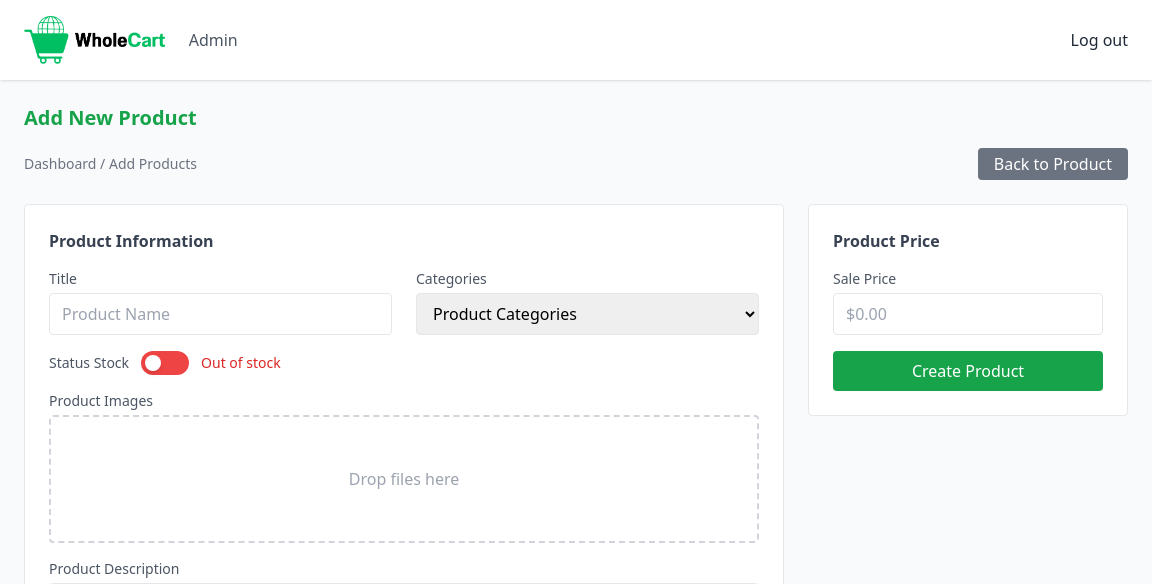
Test: AddNewProduct Component › can toggle stock status and show quantity input
This screenshot has width=1152, height=584.
Click the button named "Status Stock".
click(165, 363)  # box x1=141 y1=351 x2=189 y2=375
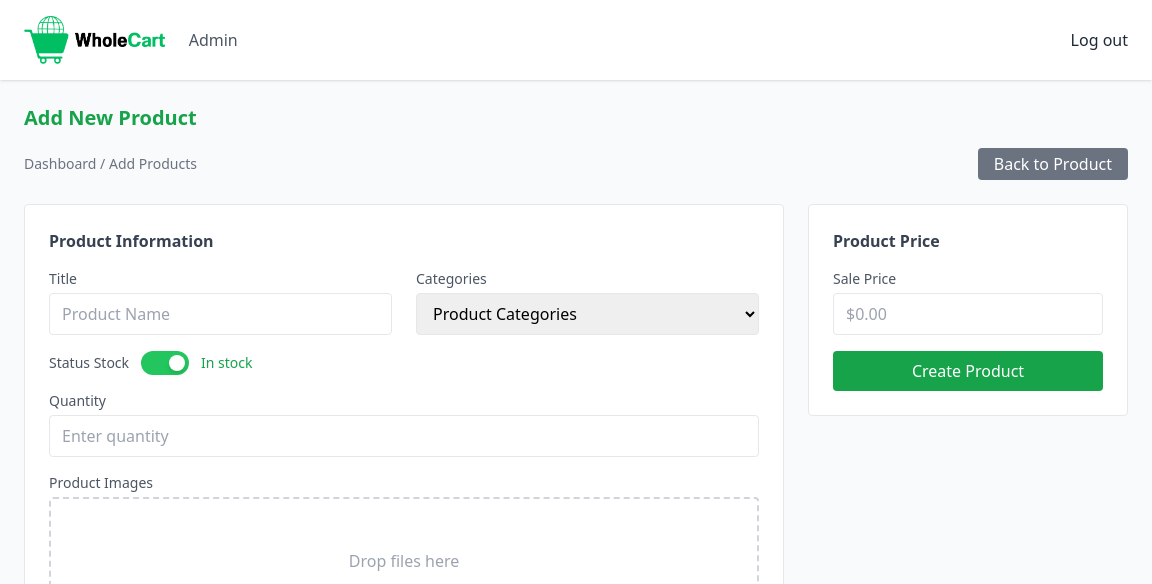
Expected: the text "In stock" is shown, x1=201 y1=353 x2=253 y2=373
Expected: the number field with placeholder "Enter quantity" is shown, x1=49 y1=415 x2=759 y2=457
